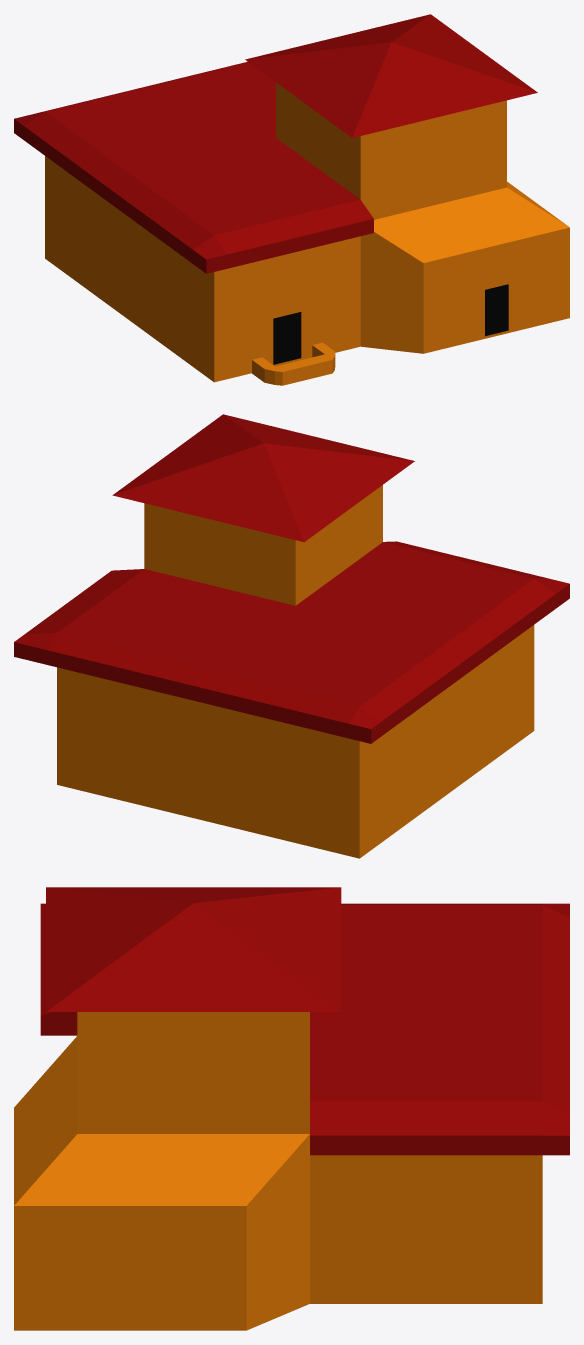
The model's file is Tradecenter.glb.
The picture shows the model from 3 angles, top to bottom: view 1: azimuth 30°, elevation 25°; view 2: azimuth 150°, elevation 25°; view 3: azimuth 270°, elevation 25°; orthographic projection. The views are drawn at different scales.
Visible parts, largest first — view 1: Trade center; view 2: Trade center; view 3: Trade center.
Part boxes in pixels (left/top/right/bottom): Trade center: left=14, top=14, right=569, bottom=385; Trade center: left=14, top=414, right=569, bottom=858; Trade center: left=14, top=887, right=569, bottom=1330.
Size of the model in its own units: 1.25 by 0.8625 by 1.23.
